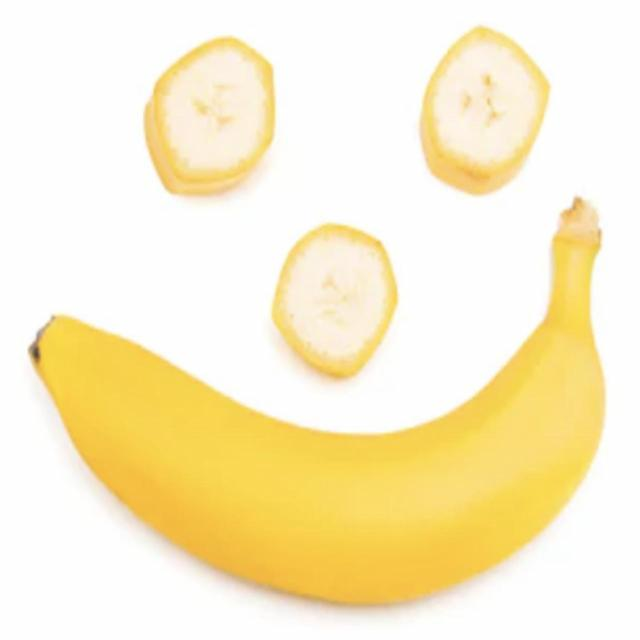banana: (8, 179, 638, 600)
